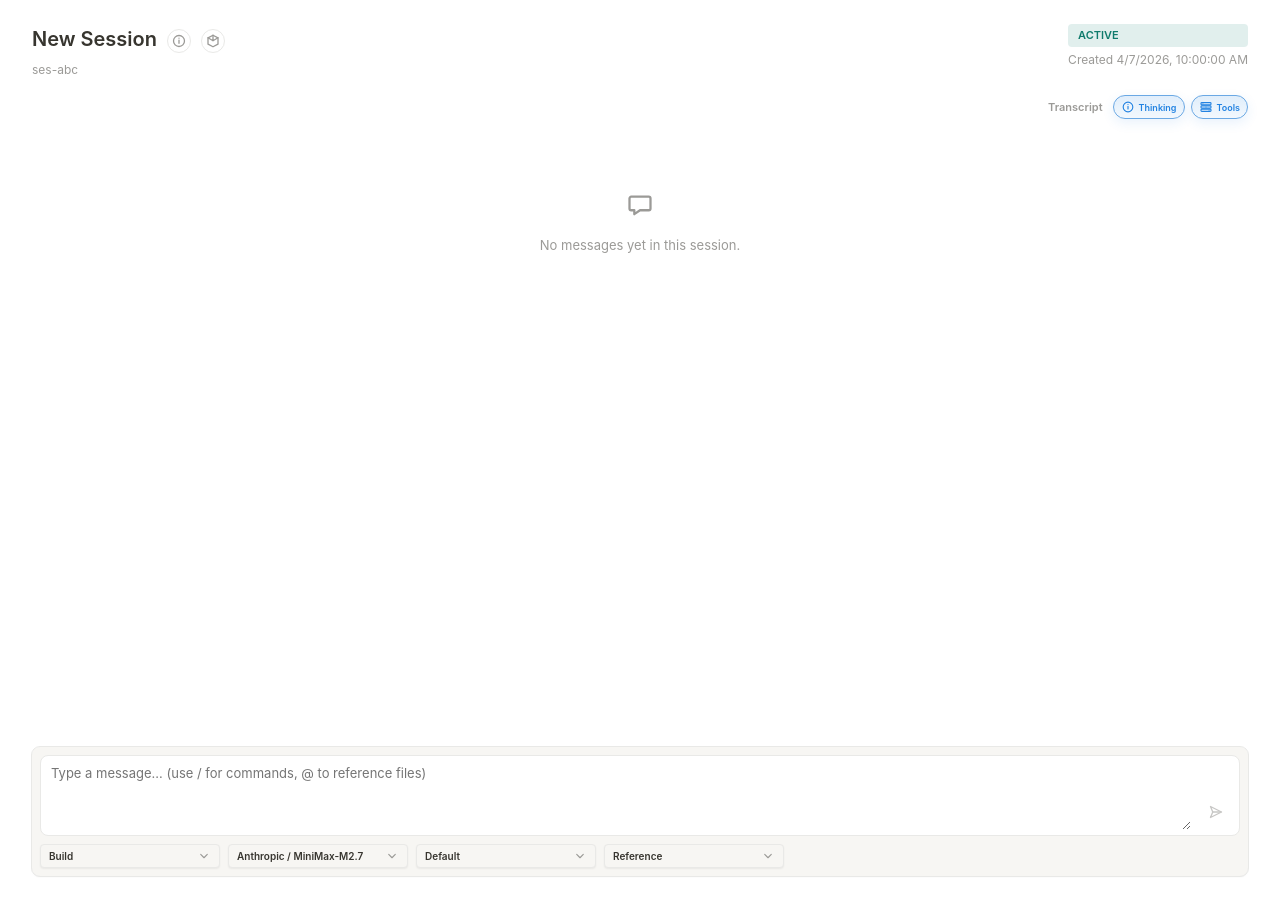
it: ChatPage › shows an empty state when no references are available
Click the button with test id "composer-reference-trigger" at (694, 856), box [604,844,784,868]
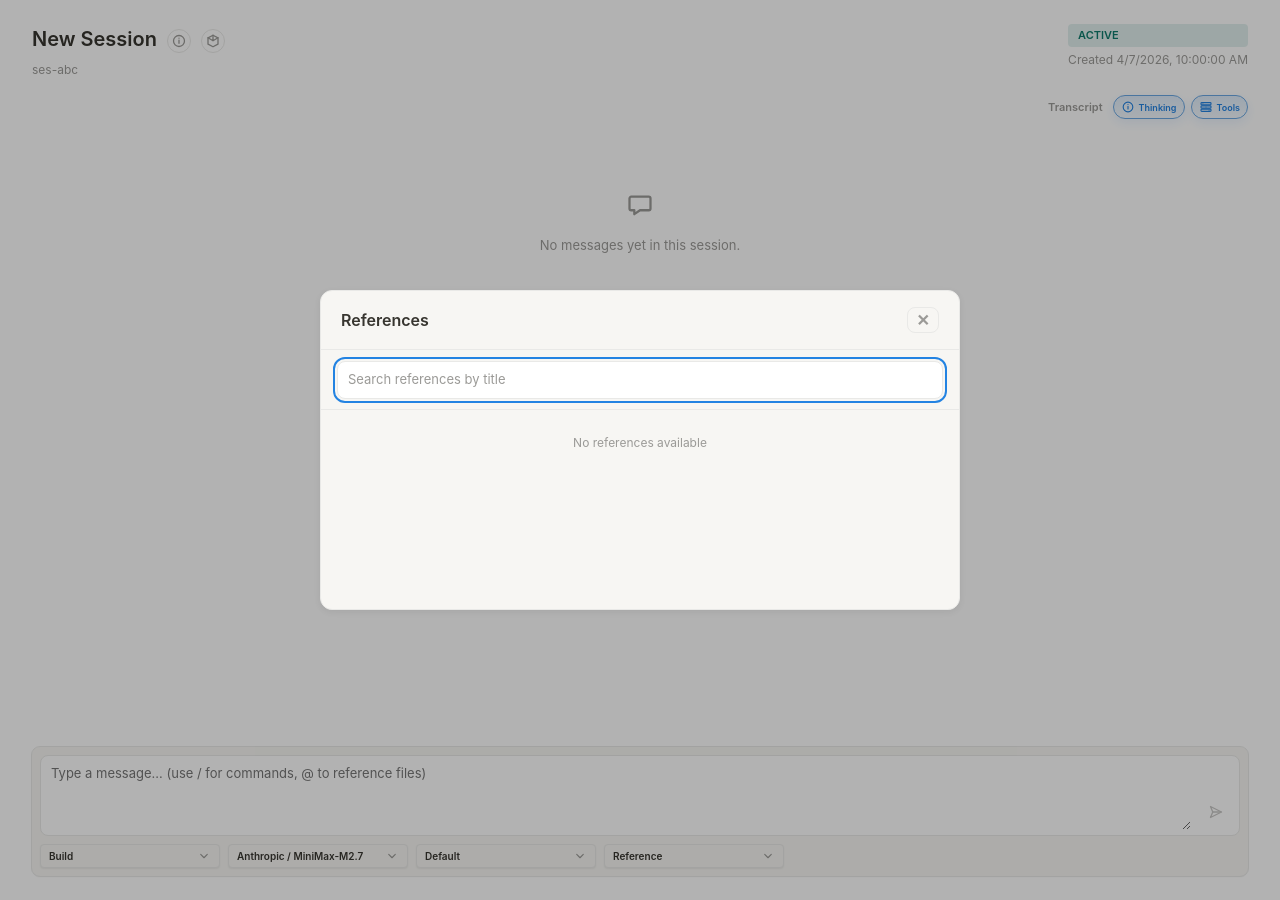
expect the text "No references available" is shown: met, box [573,434,707,450]
